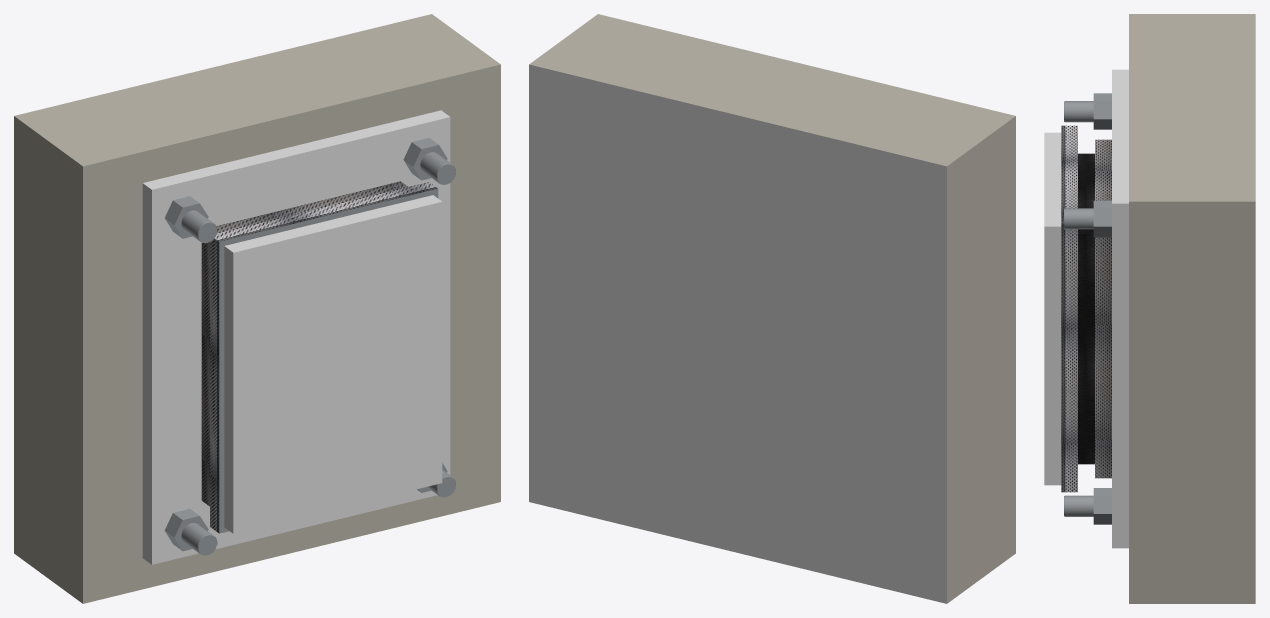
File: bearing_03.obj
The picture shows the model from 3 angles, left to right: view 1: azimuth 30°, elevation 25°; view 2: azimuth 150°, elevation 25°; view 3: azimuth 270°, elevation 25°; orthographic projection. The views are drawn at different scales.
Parts seen in each view (by area): view 1: _8, Color_001, _2, Metal_Rough; view 2: Color_001, _8; view 3: _8, Color_001, _2, _5, Metal_Rough.
Boxes of the visible parts, x1,y1,x2,y2 form: _8: (14,14,500,603); Color_001: (142,110,450,564); _2: (201,181,437,533); Metal_Rough: (164,137,455,555); Color_001: (529,64,946,603); _8: (529,14,1015,603); _8: (1129,14,1255,603); Color_001: (1044,69,1128,548); _2: (1061,125,1111,492); _5: (1078,153,1094,464); Metal_Rough: (1064,93,1111,524).
Size of the model in its own units: 0.756 by 0.7564 by 0.3602.
